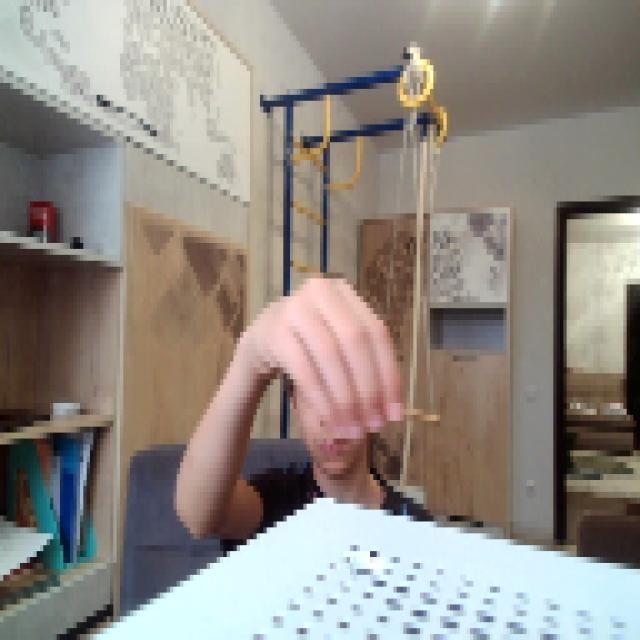left_click: (247, 266, 403, 444)
